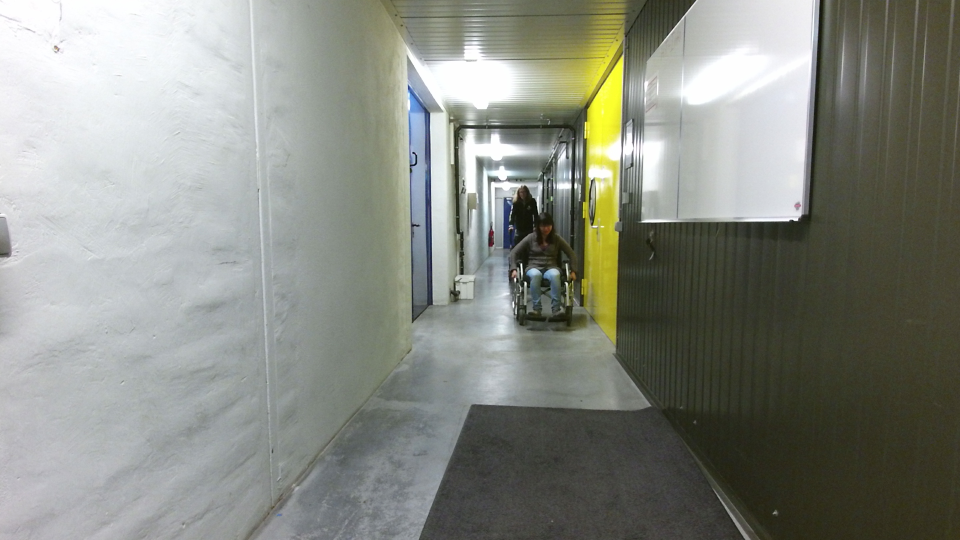wheelchair: (500, 208, 578, 328)
